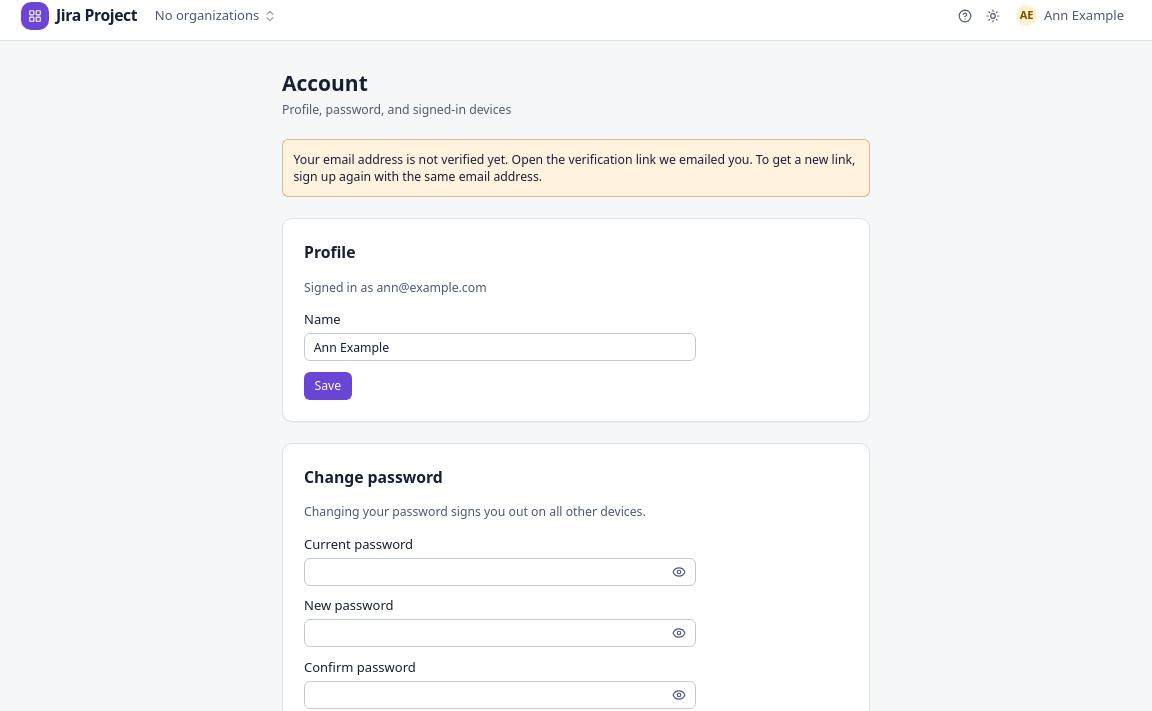
Test: AccountPage › rejects mismatched password confirmation client-side
Type "current-password-1" into the password field labelled "Current password". click: coordinates (500, 572)
box: [304, 558, 696, 586]
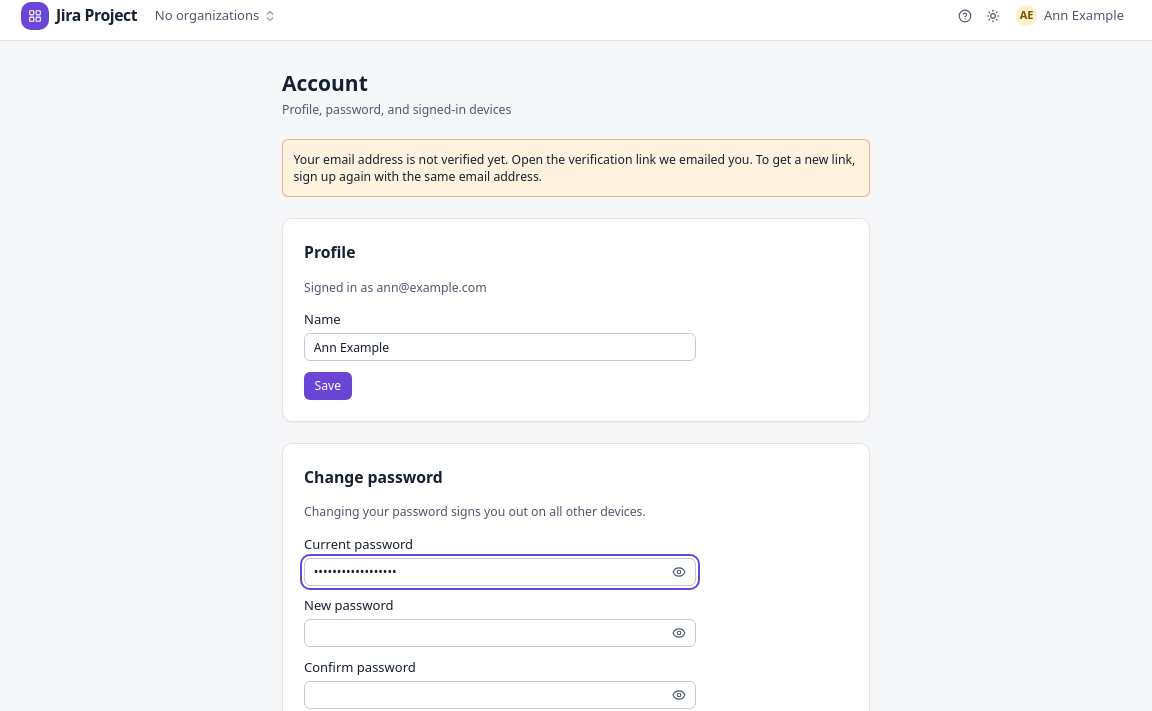
Type "Copper-Meadow-Falcon-58" into the password field labelled "New password". click: coordinates (500, 633)
box: [304, 619, 696, 647]
(page scrolled)
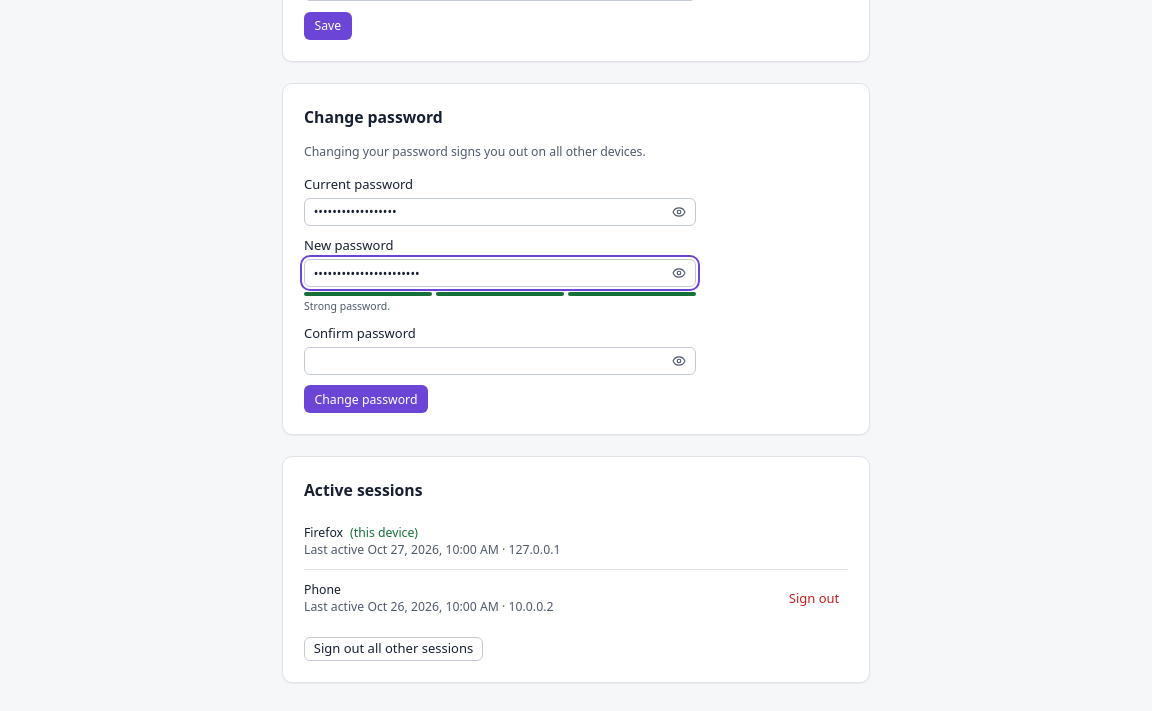
Type "Copper-Meadow-Falcon-59" into the password field labelled "Confirm password". click: coordinates (500, 361)
box: [304, 347, 696, 375]
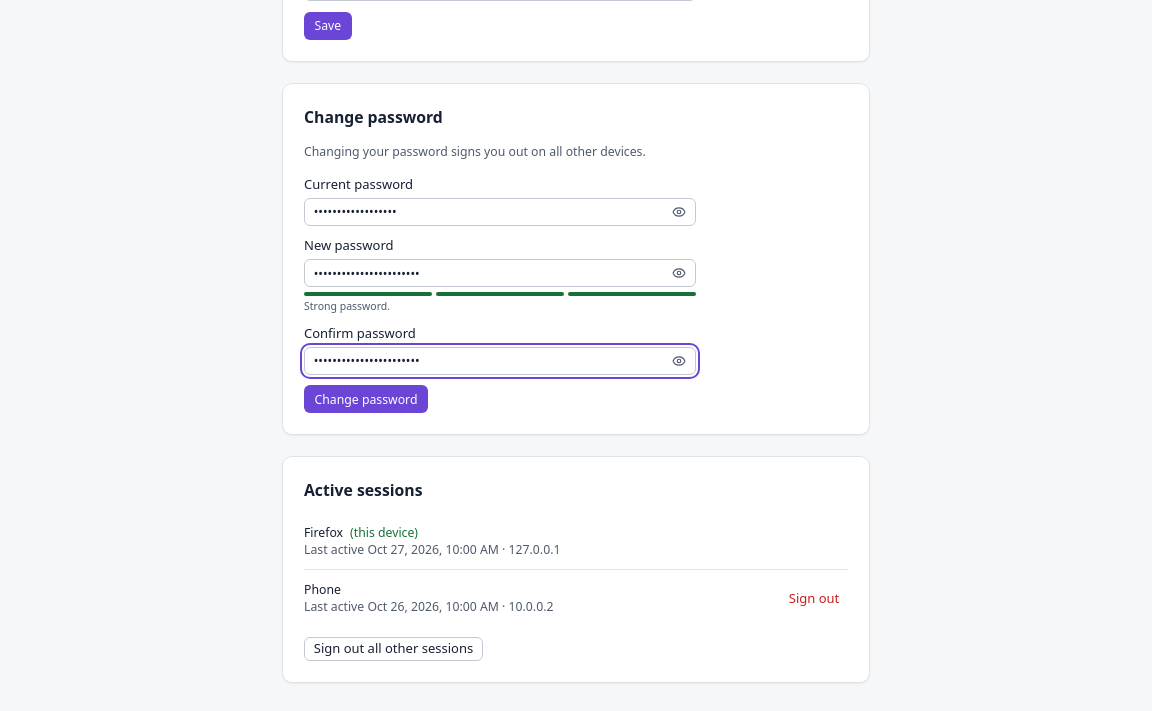
Click the button "Change password". click: coordinates (366, 399)
box: [304, 385, 428, 413]
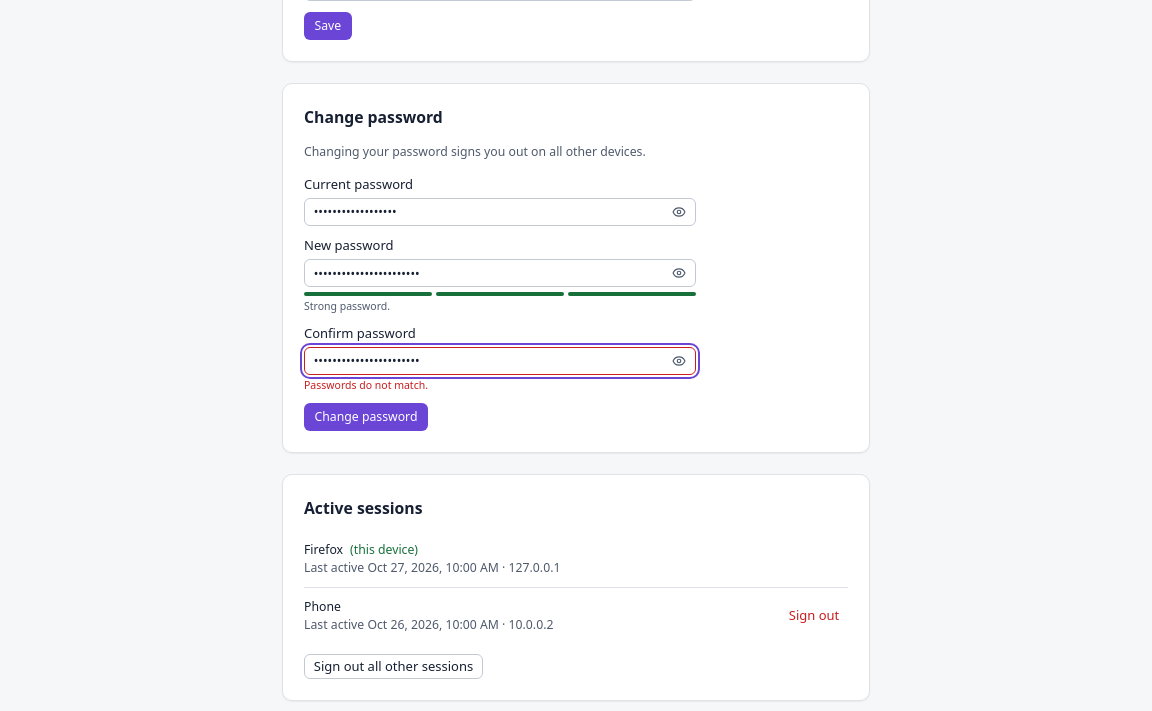
Expected: the text "Passwords do not match." is shown, [304, 378, 428, 392]
